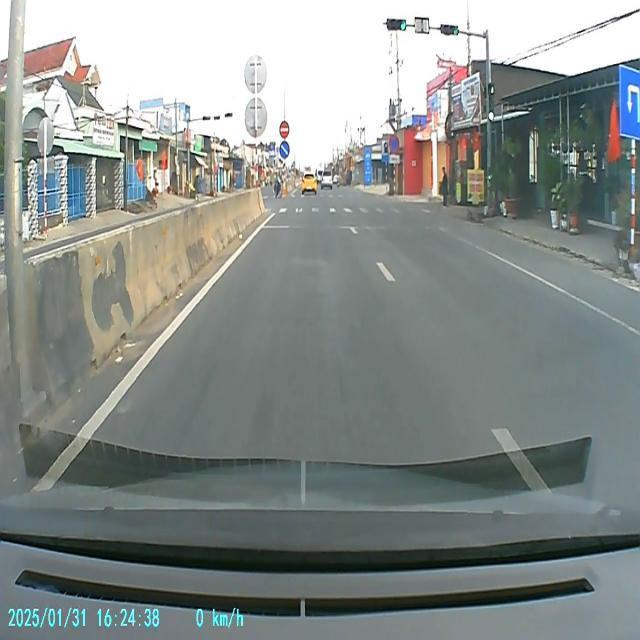102-cam-di-nguoc-chieu: (279, 122, 289, 138)
131a-cam-do-xe: (389, 134, 399, 154)
302a-huong-phai-di-vong-chuong-ngai-vat-1: (279, 140, 289, 160)
